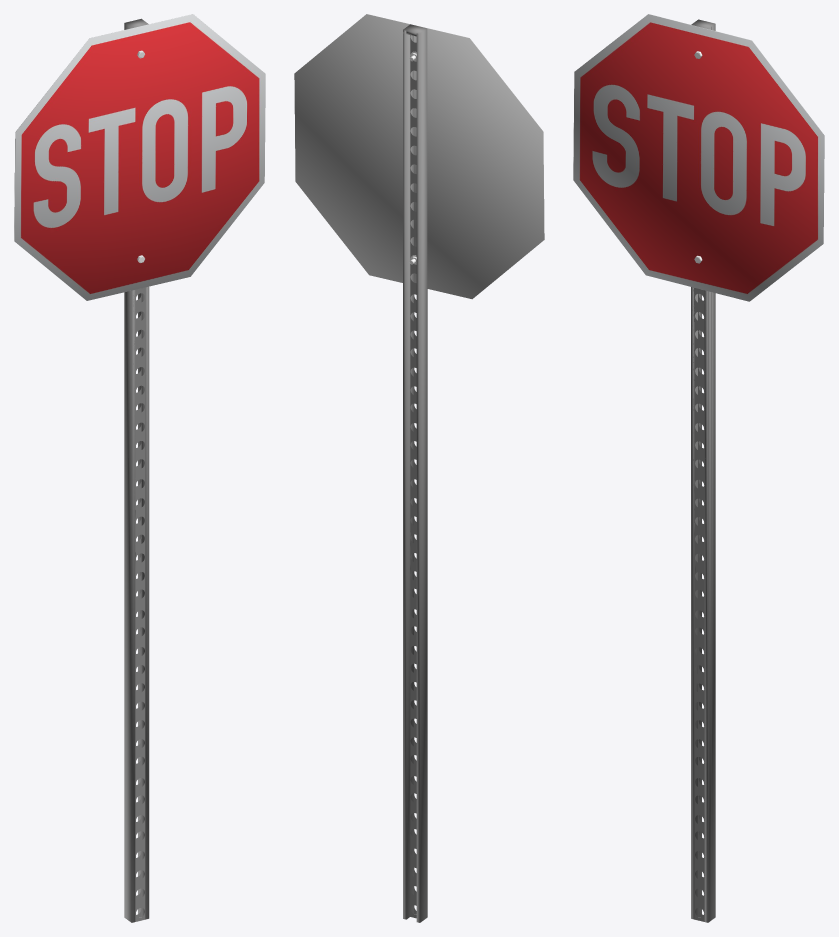
Rendered from stopSign.glb.
The picture shows the model from 3 angles, left to right: view 1: azimuth 30°, elevation 25°; view 2: azimuth 150°, elevation 25°; view 3: azimuth 330°, elevation 25°; orthographic projection.
Visible parts, largest first — view 1: Object_6; view 2: Object_6; view 3: Object_6.
Boxes of the visible parts, <box> form: Object_6: <box>14,14,265,922</box>; Object_6: <box>294,14,544,922</box>; Object_6: <box>573,14,824,922</box>.
Size of the model in its own units: 0.6267 by 2.13 by 0.0406.
Materials: 5 (1 with a texture image).
